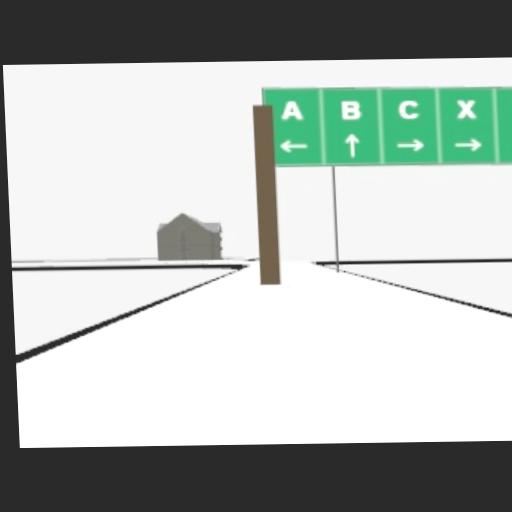A: (280, 98, 302, 119)
B: (340, 99, 360, 119)
C: (397, 98, 419, 118)
Left: (279, 138, 308, 151)
Right: (395, 136, 424, 150), (453, 137, 480, 151)
Straight: (344, 132, 359, 156)
X: (455, 98, 475, 117)
